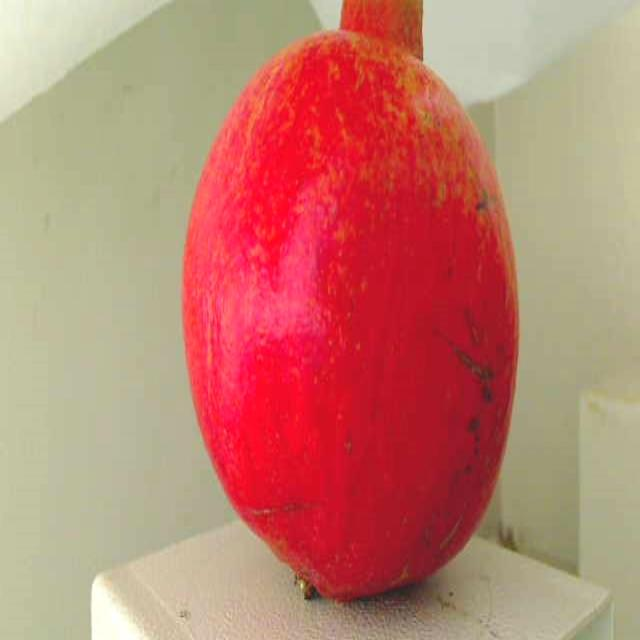pomegranate: (172, 0, 524, 614)
